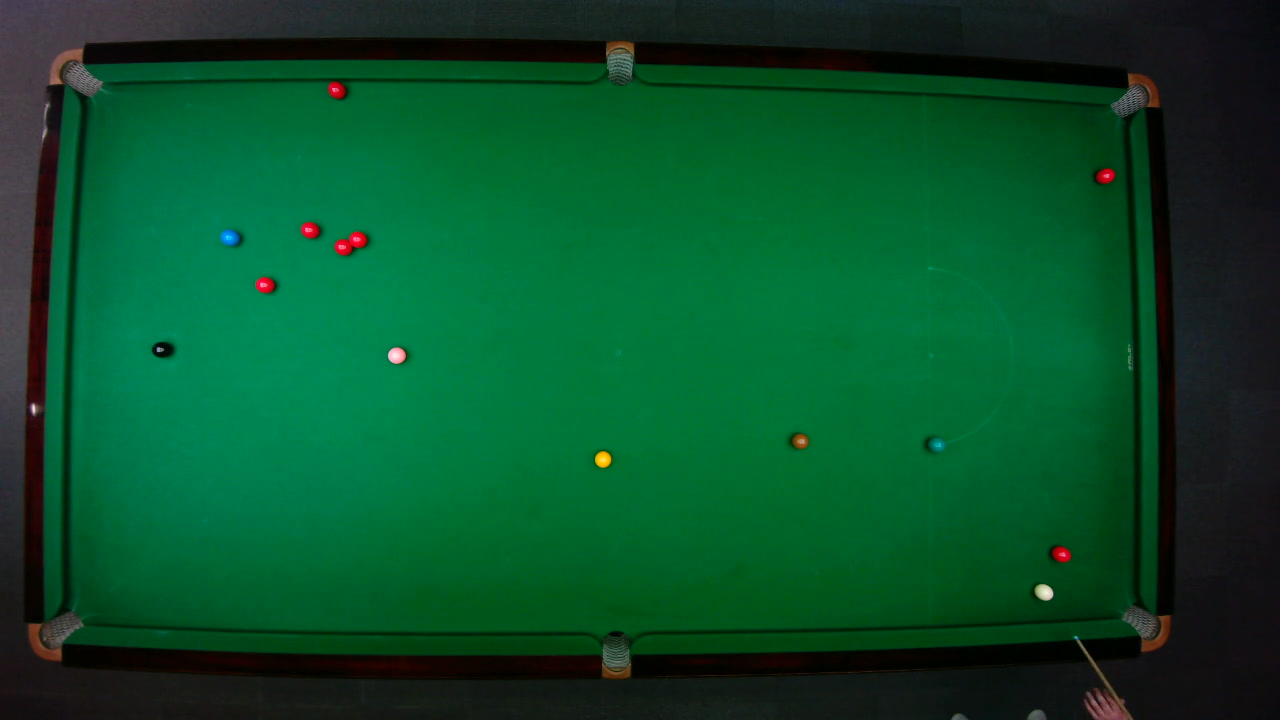bag: (26, 609, 84, 661), (47, 47, 104, 97), (1119, 603, 1171, 651), (1108, 72, 1160, 118), (601, 629, 630, 680), (605, 39, 633, 86)
black: (150, 340, 172, 358)
blue: (218, 228, 240, 246)
brown: (790, 432, 809, 449)
cue: (1073, 634, 1132, 720)
green: (926, 435, 945, 452)
pink: (386, 345, 407, 365)
red: (1049, 544, 1072, 563), (298, 220, 320, 239), (1093, 166, 1116, 184), (332, 237, 354, 255), (326, 80, 346, 99), (347, 230, 368, 248), (254, 276, 275, 293)
white: (1032, 581, 1054, 601)
yellow: (593, 449, 612, 468)
zone: (926, 265, 1013, 445)
